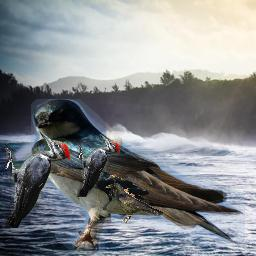Crow: (86, 168, 149, 210), (104, 183, 163, 223)
Swallow: (31, 99, 245, 254)
Woodpecker: (4, 131, 70, 228), (77, 134, 120, 197)
